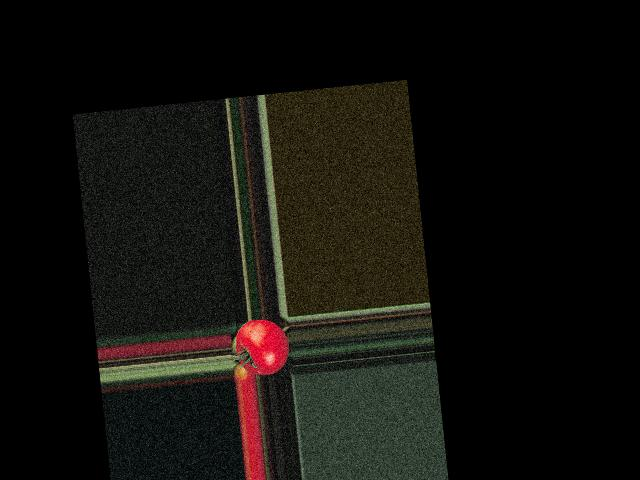tomato: (234, 316, 291, 376)
